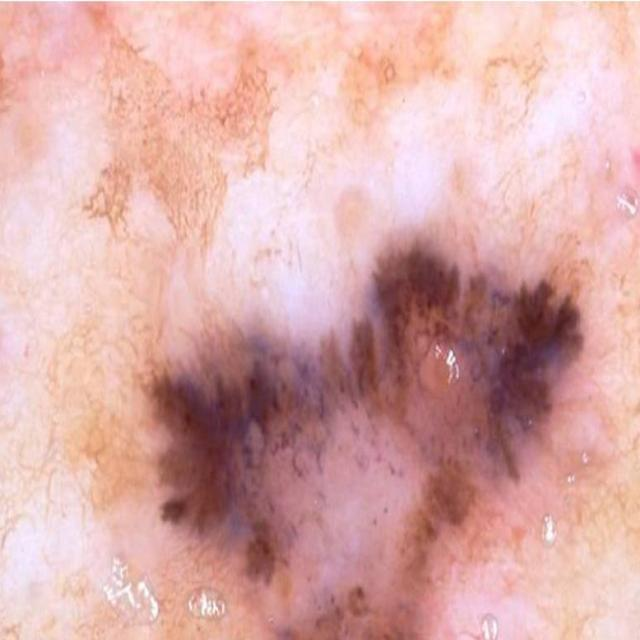Melanoma: (98, 221, 586, 640)
